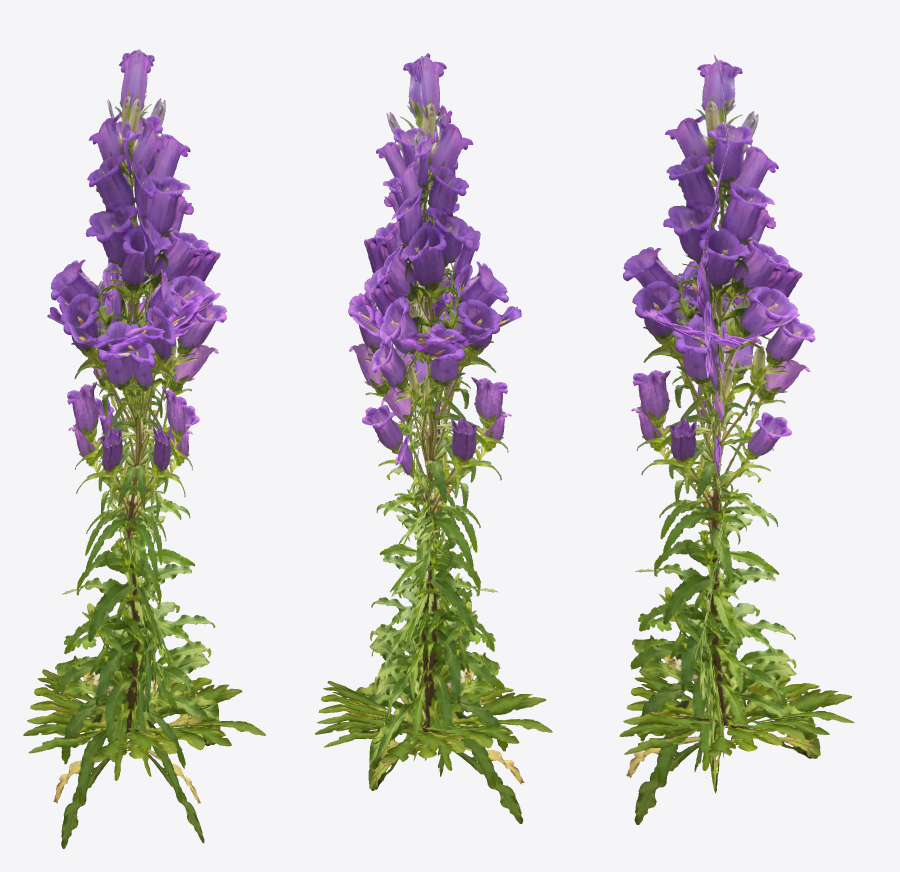
File: m_flower35.fbx
3 views of the same model, side by side, from view 1: azimuth 30°, elevation 25°; view 2: azimuth 150°, elevation 25°; view 3: azimuth 270°, elevation 25° (orthographic).
Parts seen in each view (by area): view 1: mesh_flower35; view 2: mesh_flower35; view 3: mesh_flower35.
Part boxes in pixels (<box>): mesh_flower35: <box>23,49,265,848</box>; mesh_flower35: <box>315,53,552,823</box>; mesh_flower35: <box>619,54,854,824</box>.
Bounding box in the file's own units: 0.3662 × 1.07 × 0.3551.
Materials: 1 (1 with a texture image).
